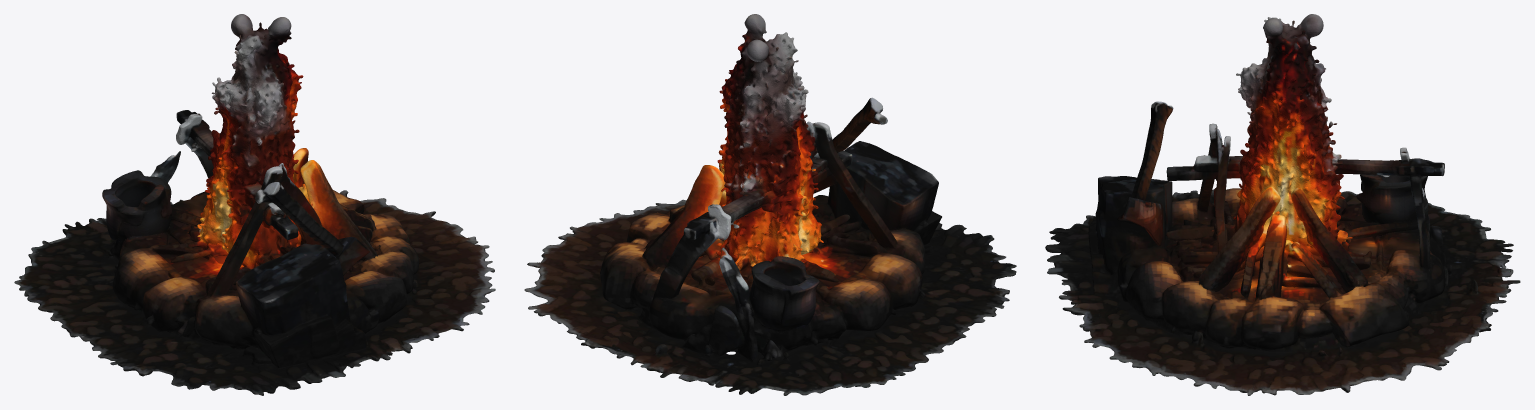
The model's file is campfire+3d+model.glb.
3 renders of one model, left to right at view 1: azimuth 30°, elevation 25°; view 2: azimuth 150°, elevation 25°; view 3: azimuth 270°, elevation 25°, orthographic. The views are drawn at different scales.
Parts seen in each view (by area): view 1: tripo_node_b7cd532d-35f6-4fe0-9768-eee58c5abee0; view 2: tripo_node_b7cd532d-35f6-4fe0-9768-eee58c5abee0; view 3: tripo_node_b7cd532d-35f6-4fe0-9768-eee58c5abee0.
Part boxes in pixels (x1,y1,x2,y2): tripo_node_b7cd532d-35f6-4fe0-9768-eee58c5abee0: [14, 14, 495, 395]; tripo_node_b7cd532d-35f6-4fe0-9768-eee58c5abee0: [524, 14, 1016, 395]; tripo_node_b7cd532d-35f6-4fe0-9768-eee58c5abee0: [1045, 14, 1520, 395].
Size of the model in its own units: 1 by 0.6648 by 0.9761.
Materials: 1 (1 with a texture image).
